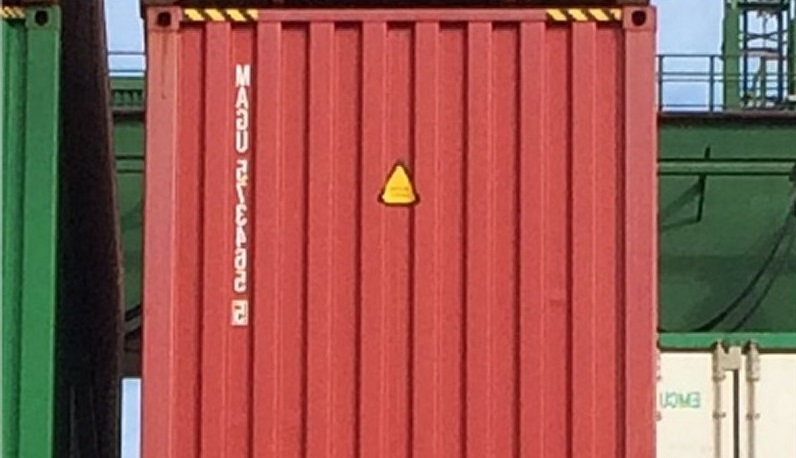container_no_door: (148, 9, 656, 457)
